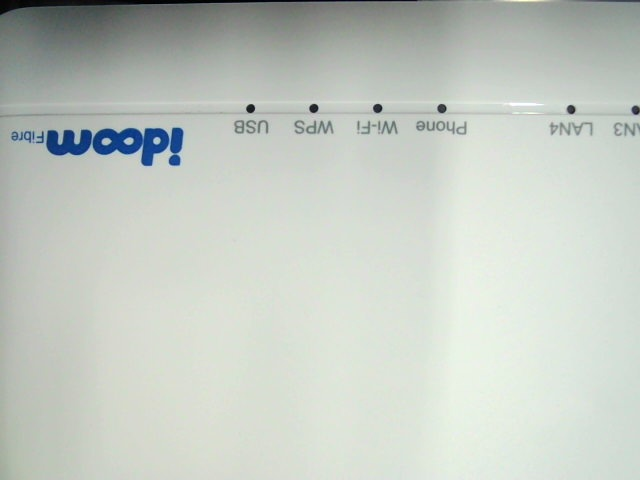BB_idoom: (4, 117, 200, 171)
